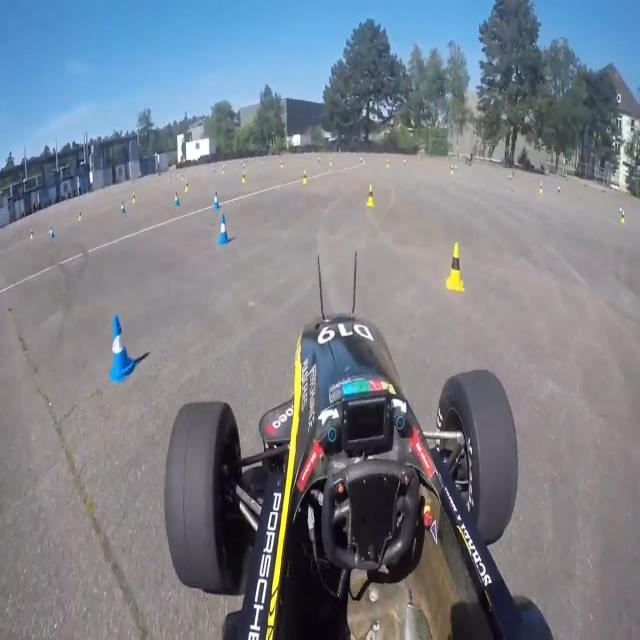blue_cone: (104, 311, 136, 382), (215, 211, 228, 246), (211, 190, 220, 211), (173, 190, 180, 210), (48, 225, 55, 243), (120, 202, 126, 216)
yellow_cone: (443, 238, 469, 294), (366, 181, 375, 208), (300, 168, 308, 187), (620, 208, 626, 226), (538, 180, 544, 197), (130, 188, 136, 205), (76, 207, 82, 224), (241, 171, 247, 186), (28, 227, 34, 239), (184, 178, 188, 194), (385, 157, 390, 169), (450, 165, 454, 178)
